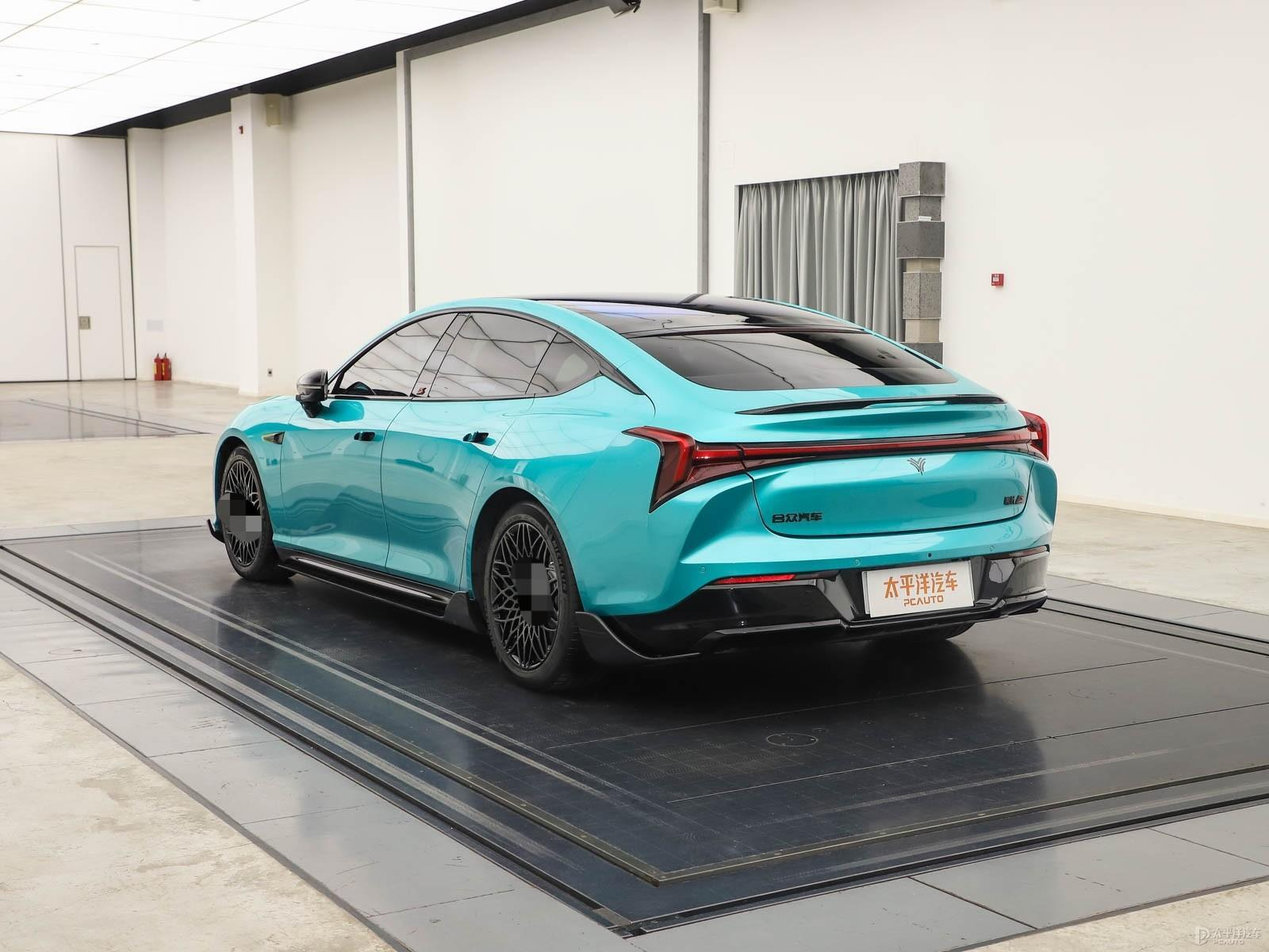NETA: (907, 456, 929, 476)
